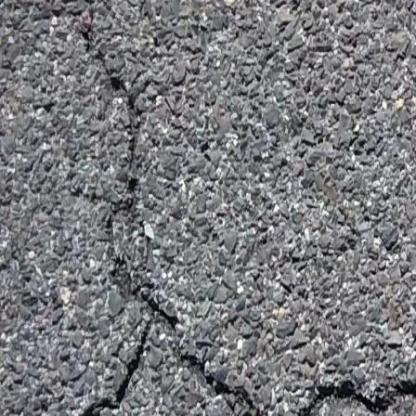Cracks: (38, 0, 207, 416), (0, 302, 416, 416)
